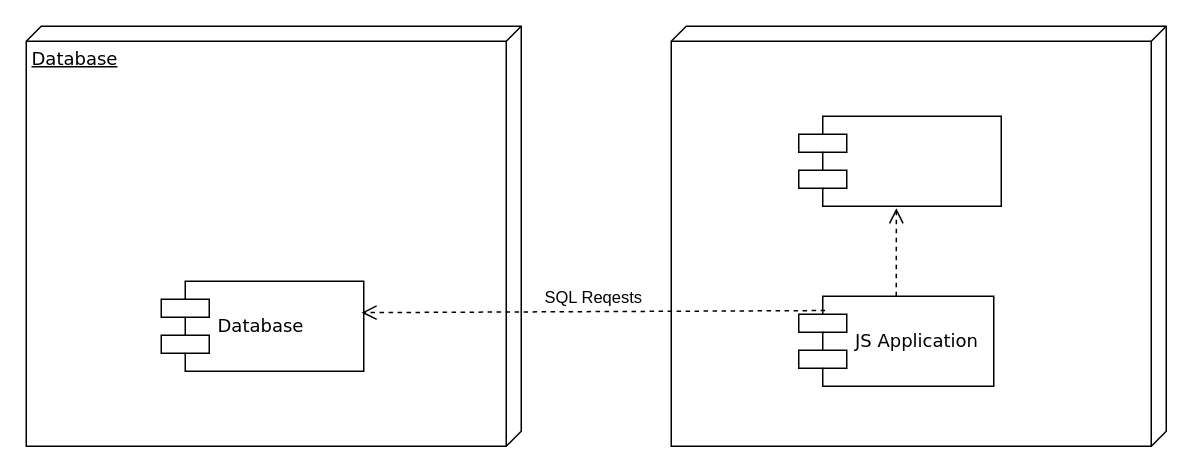
Some shapes in this 1193 by 473 pixel diagram are drawn without their labels. Each missing label, with the box of its shape:
Client: (670, 25, 1166, 446)
Web Browser: (797, 115, 1001, 206)
